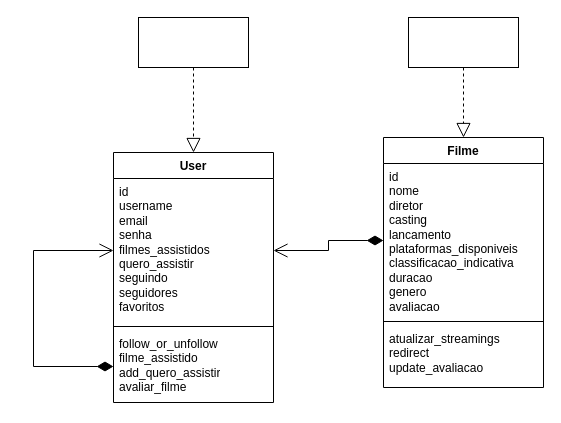
The diagram is 561 pixels wide and 423 high, and some of its shapes have lost their labels. The centre of each missing label's shape, as x and y in pixels:
«interface» Recomendação: (193,42)
«interface» Redirect: (463,42)
